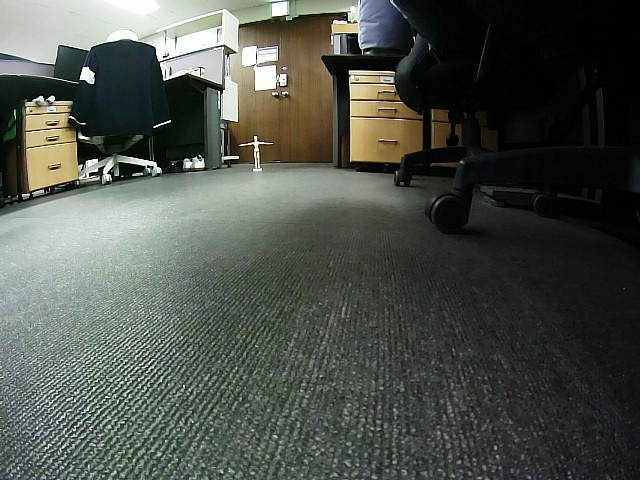person: (239, 135, 273, 169)
